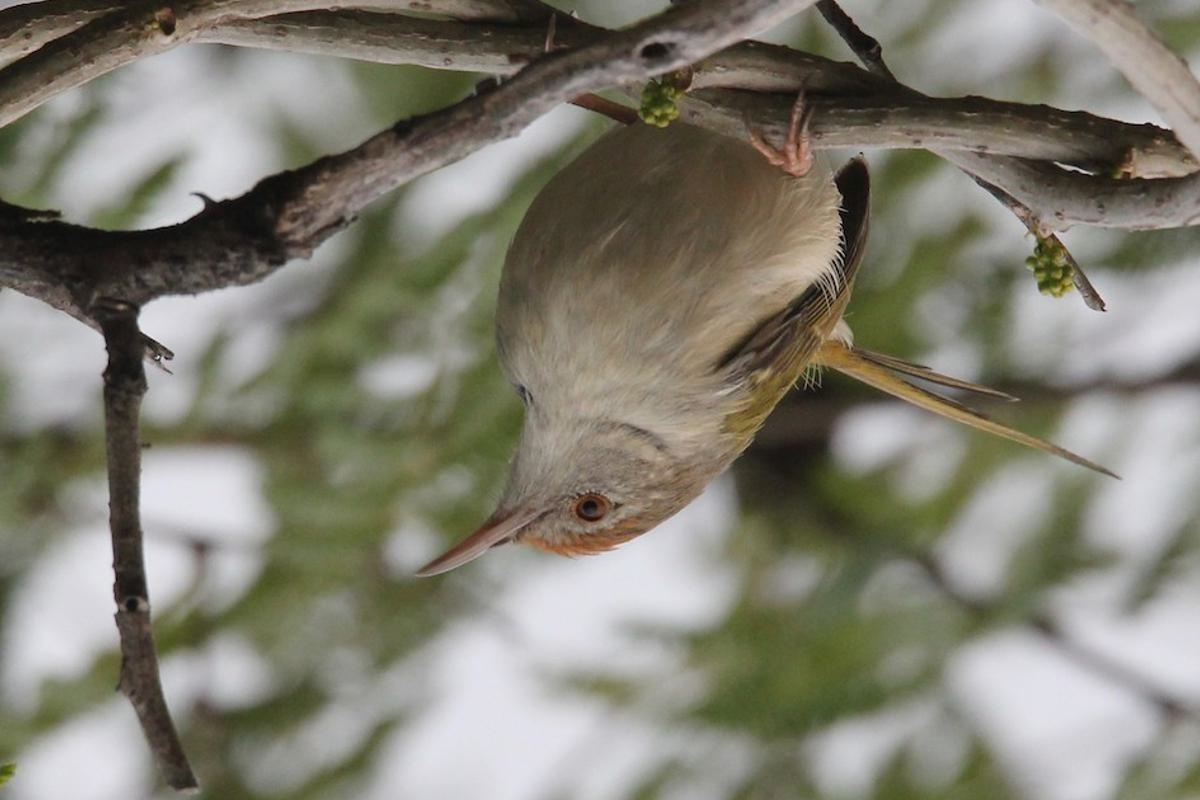tailorbird: (396, 83, 1008, 641)
